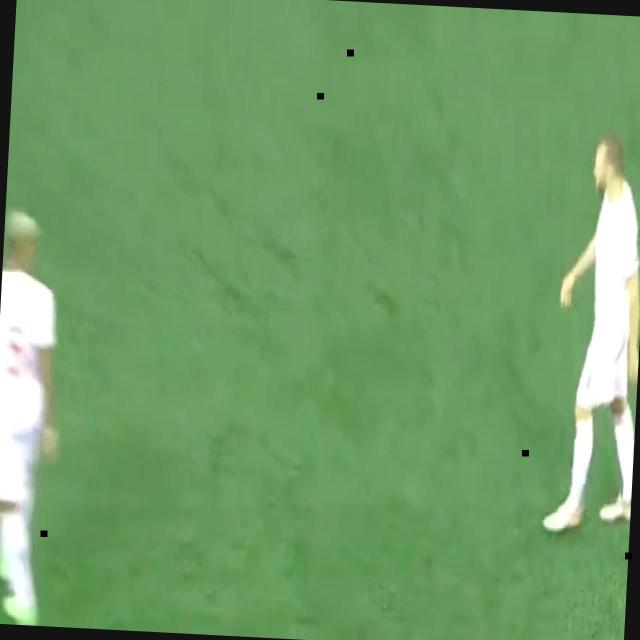player-white: (539, 138, 640, 536), (0, 213, 84, 627)
